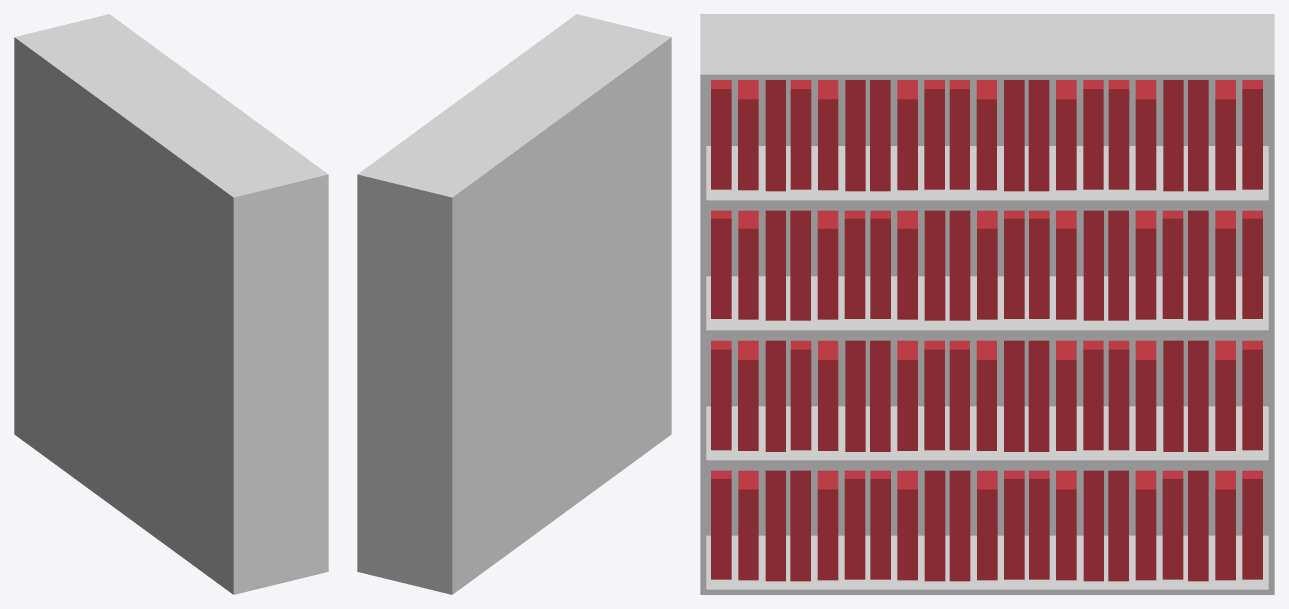
File: BookShelf2.fbx
The picture shows the model from 3 angles, left to right: view 1: azimuth 30°, elevation 25°; view 2: azimuth 150°, elevation 25°; view 3: azimuth 270°, elevation 25°; orthographic projection. The views are drawn at different scales.
Parts seen in each view (by area): view 1: shelf; view 2: shelf; view 3: Cube.082, shelf.
Part boxes in pixels (<box>): shelf: <box>14,14,328,594</box>; shelf: <box>357,14,671,594</box>; Cube.082: <box>711,80,1262,581</box>; shelf: <box>700,14,1274,594</box>.
Size of the model in its own units: 100 by 400 by 400.
